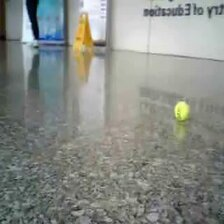tennis: (174, 102, 190, 122)
